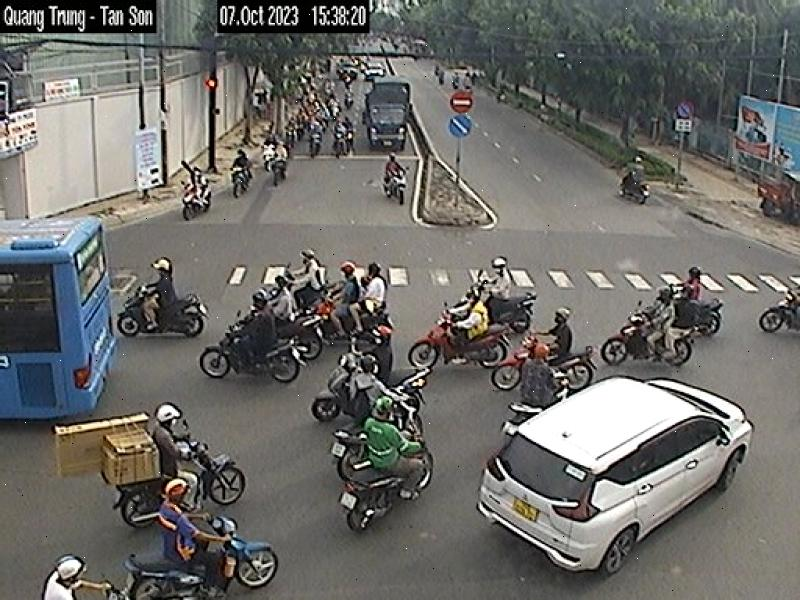bus: (0, 192, 129, 430)
car: (467, 357, 763, 600)
motorcycle: (89, 510, 306, 599), (280, 439, 460, 518), (88, 436, 258, 512), (303, 341, 444, 412), (191, 318, 335, 386), (397, 304, 518, 369), (600, 300, 704, 374), (114, 281, 220, 339), (753, 266, 800, 343), (517, 338, 586, 390)
truck: (363, 63, 430, 159)
